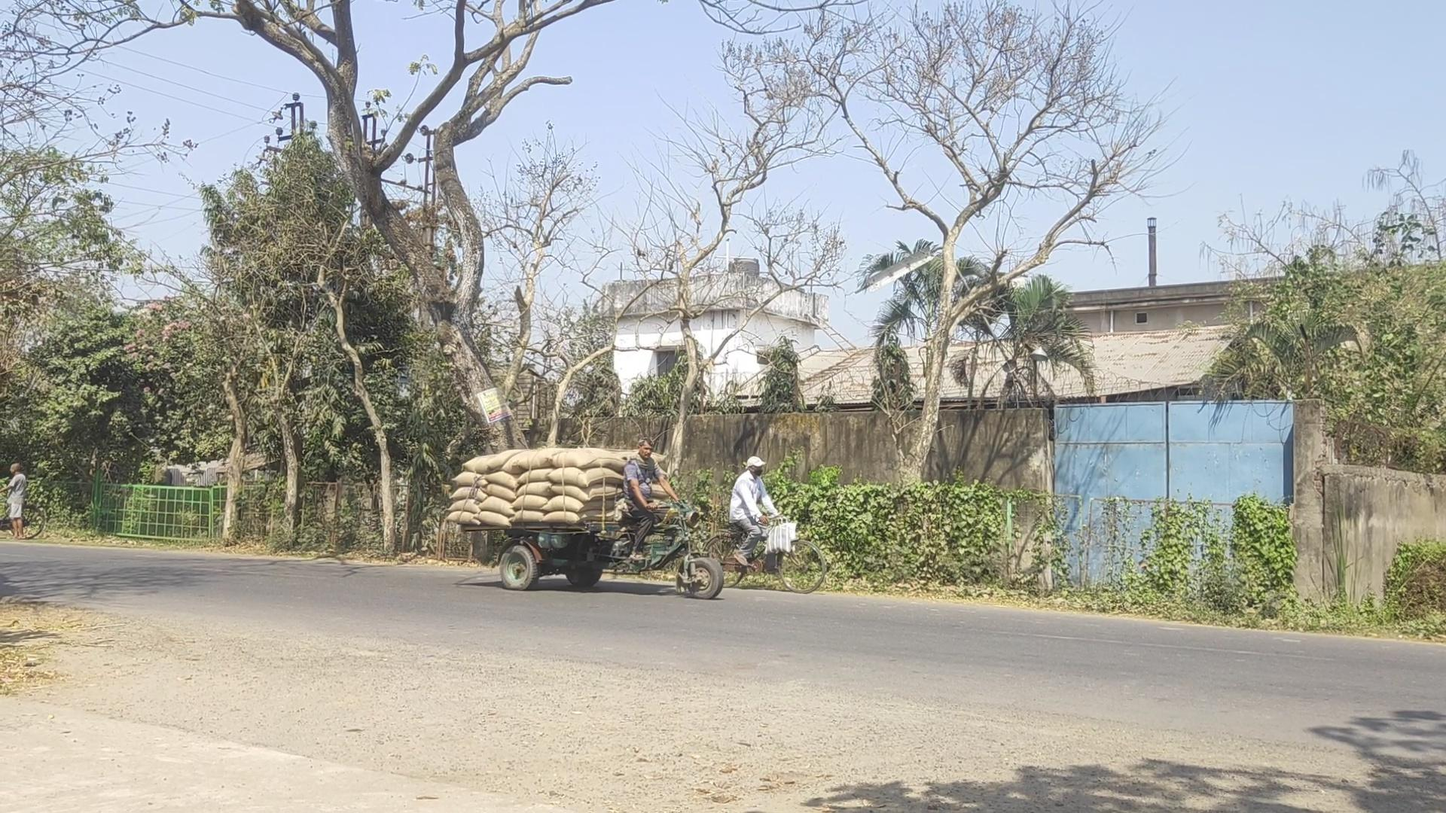bike: (700, 456, 826, 594)
